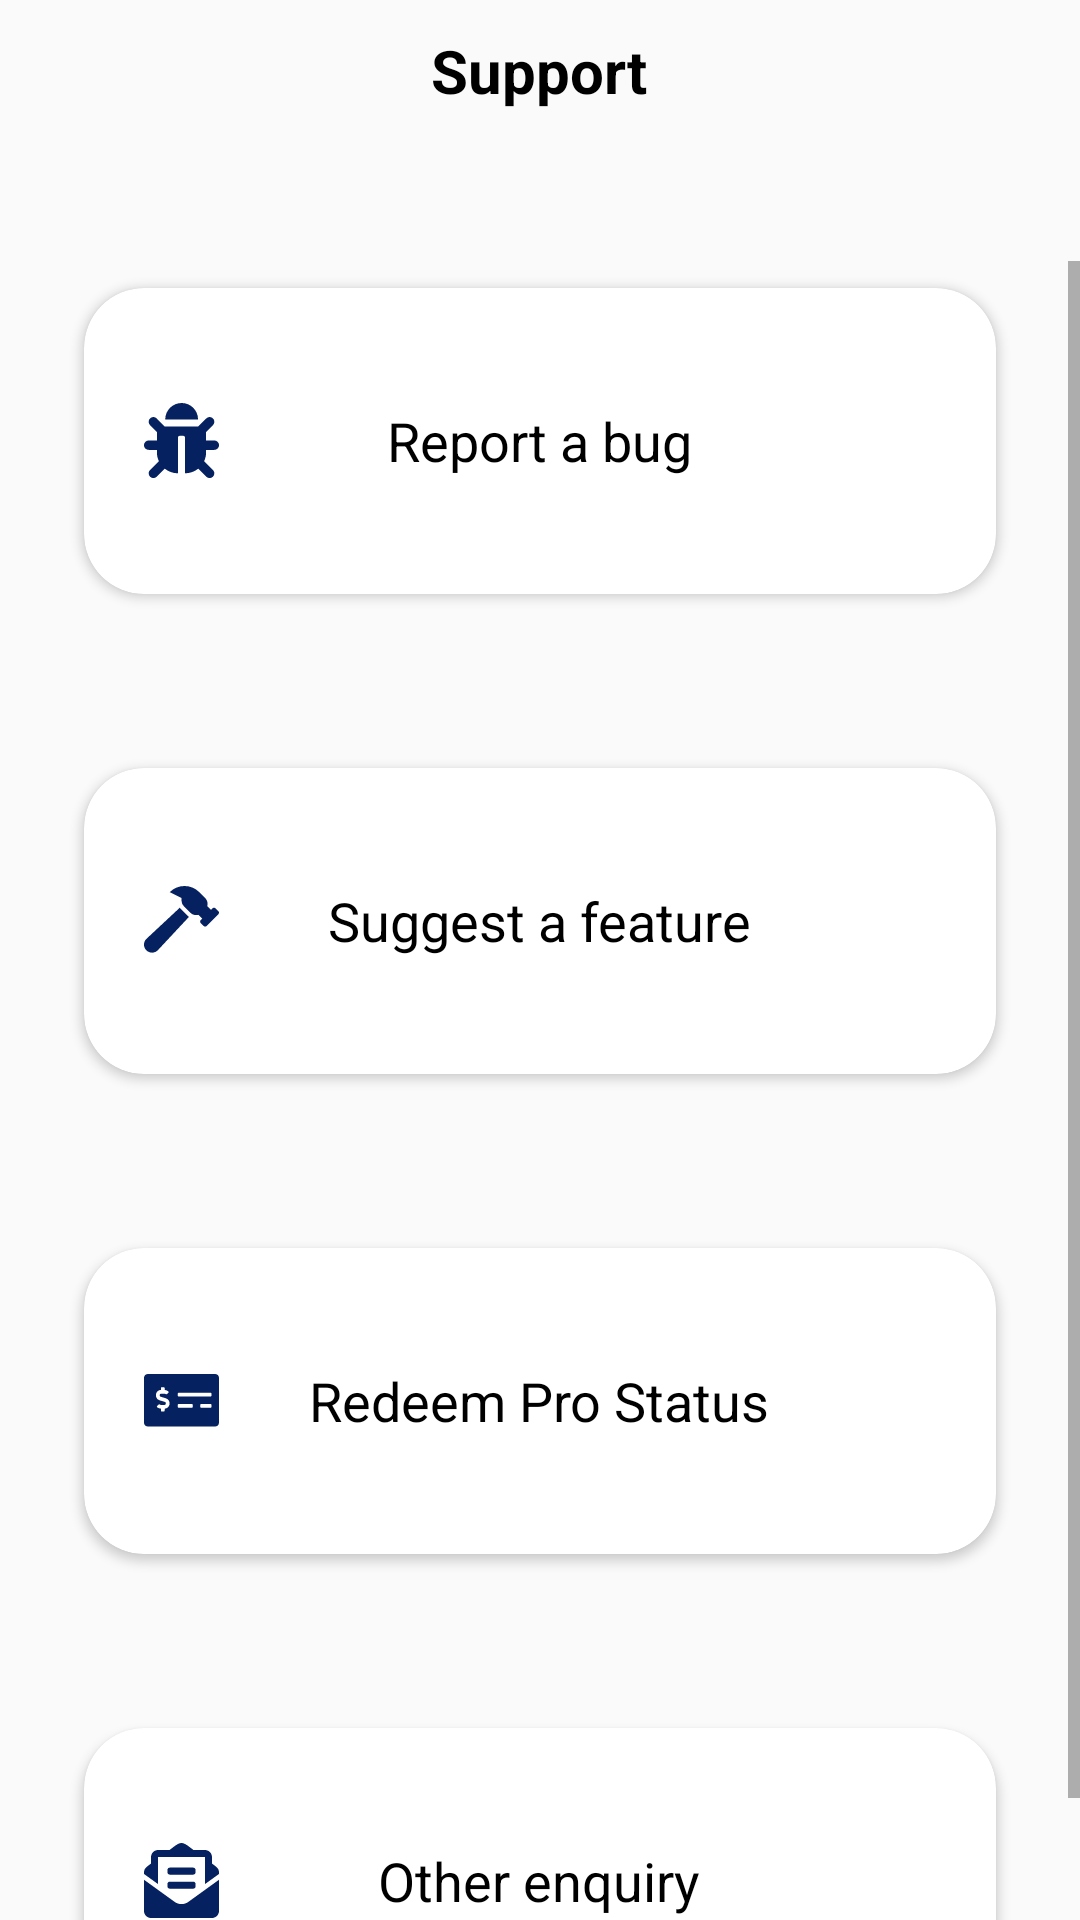

Where icons sit on this 1080*1920 app screen, as region(x1, y1, x2, y2):
bug: region(144, 403, 219, 478)
hammer: region(144, 886, 219, 953)
mail: region(144, 1843, 219, 1918)
